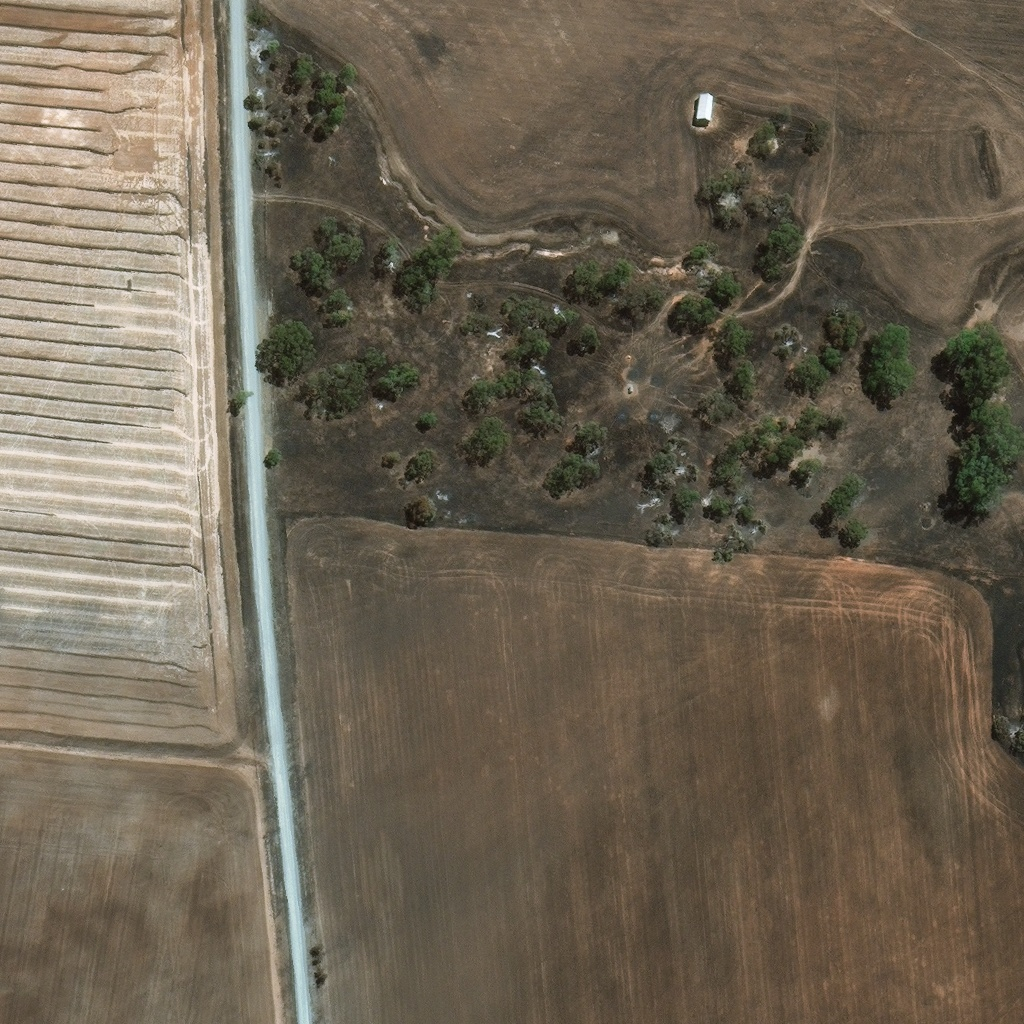0 no-damage: (695, 96, 714, 122)
